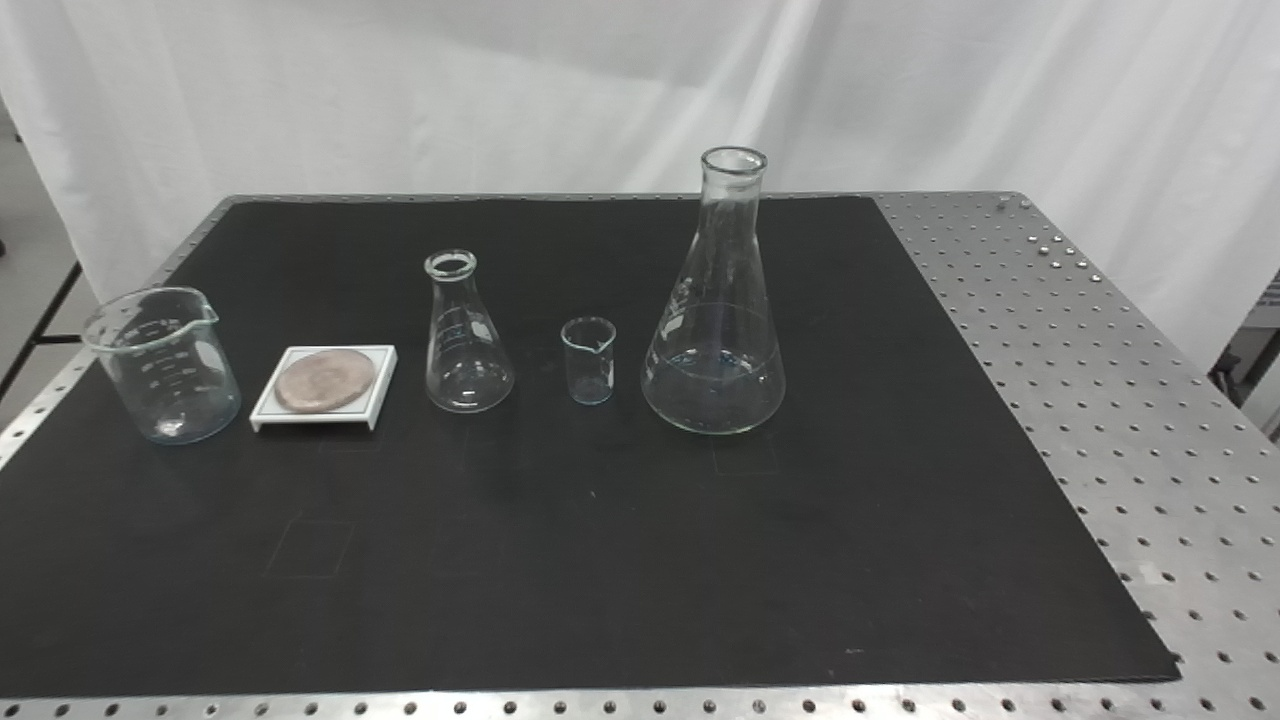glass: (639, 140, 792, 437), (80, 282, 246, 450), (420, 247, 517, 417), (558, 313, 620, 410)
plate: (250, 341, 401, 438)
